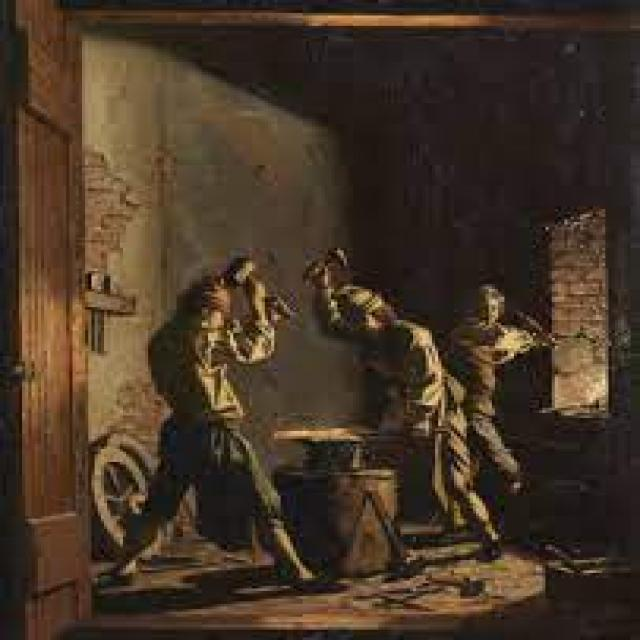hammer: (214, 244, 300, 326), (295, 243, 380, 286)
